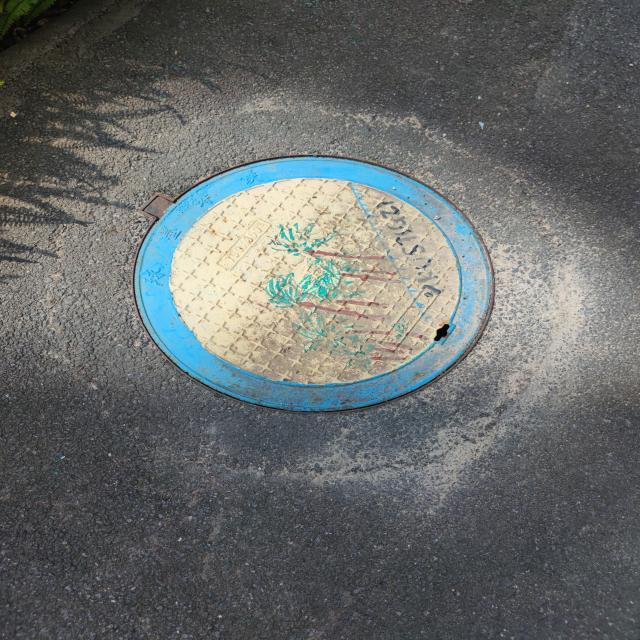Good: (125, 150, 504, 417)
